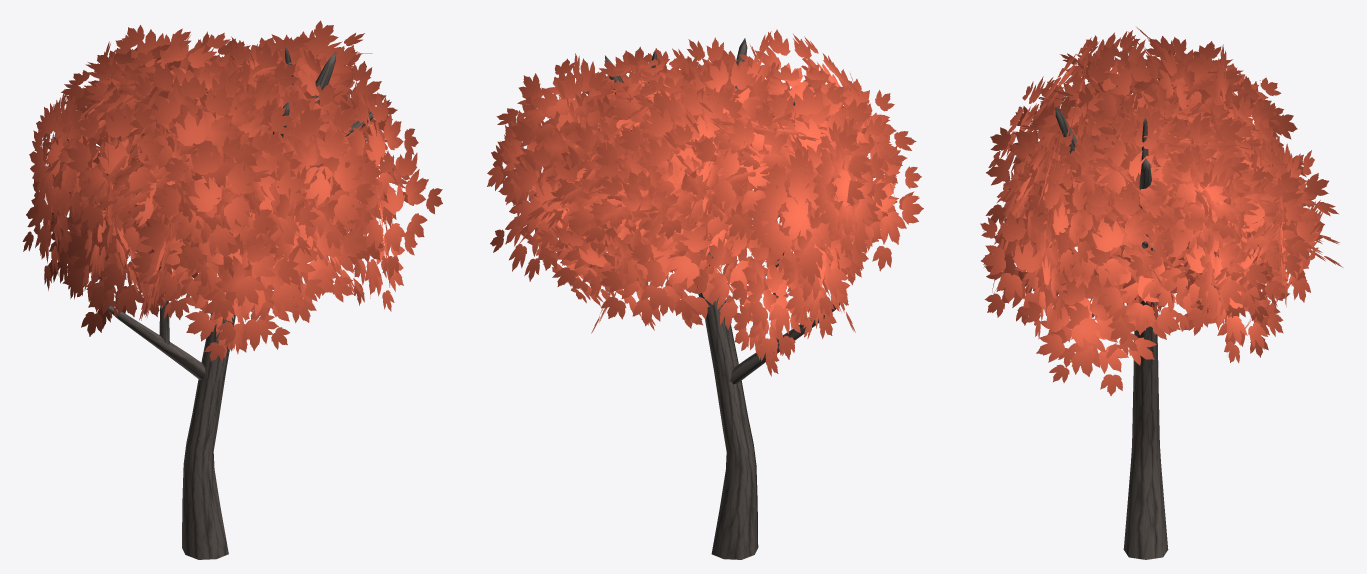
Rendered from mapletree_4.glb.
The picture shows the model from 3 angles, left to right: view 1: azimuth 30°, elevation 25°; view 2: azimuth 150°, elevation 25°; view 3: azimuth 270°, elevation 25°; orthographic projection. The views are drawn at different scales.
Parts seen in each view (by area): view 1: MapleTree_4; view 2: MapleTree_4; view 3: MapleTree_4.
Boxes of the visible parts, x1,y1,x2,y2 form: MapleTree_4: (22,20,442,559); MapleTree_4: (487,29,923,559); MapleTree_4: (980,27,1342,559).
Bounding box in the file's own units: 2.77 × 3.59 × 2.43.
2 materials, 2 textured.
